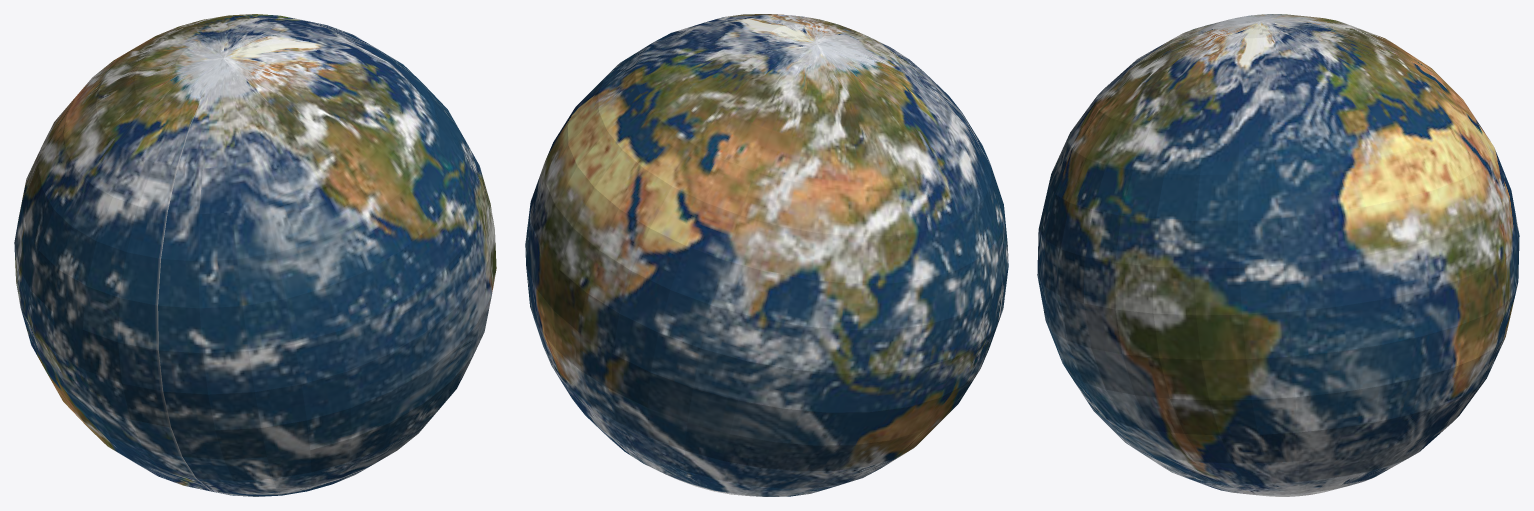
File: Earthobj.obj
3 views of the same model, side by side, from view 1: azimuth 30°, elevation 25°; view 2: azimuth 150°, elevation 25°; view 3: azimuth 270°, elevation 25° (orthographic).
Visible parts, largest first — view 1: Sphere; view 2: Sphere; view 3: Sphere.
Part boxes in pixels (box(x1,y1,x2,y2)): Sphere: box(14, 14, 496, 496); Sphere: box(525, 14, 1008, 496); Sphere: box(1037, 14, 1519, 496).
Bounding box in the file's own units: 2 × 2 × 1.99.
